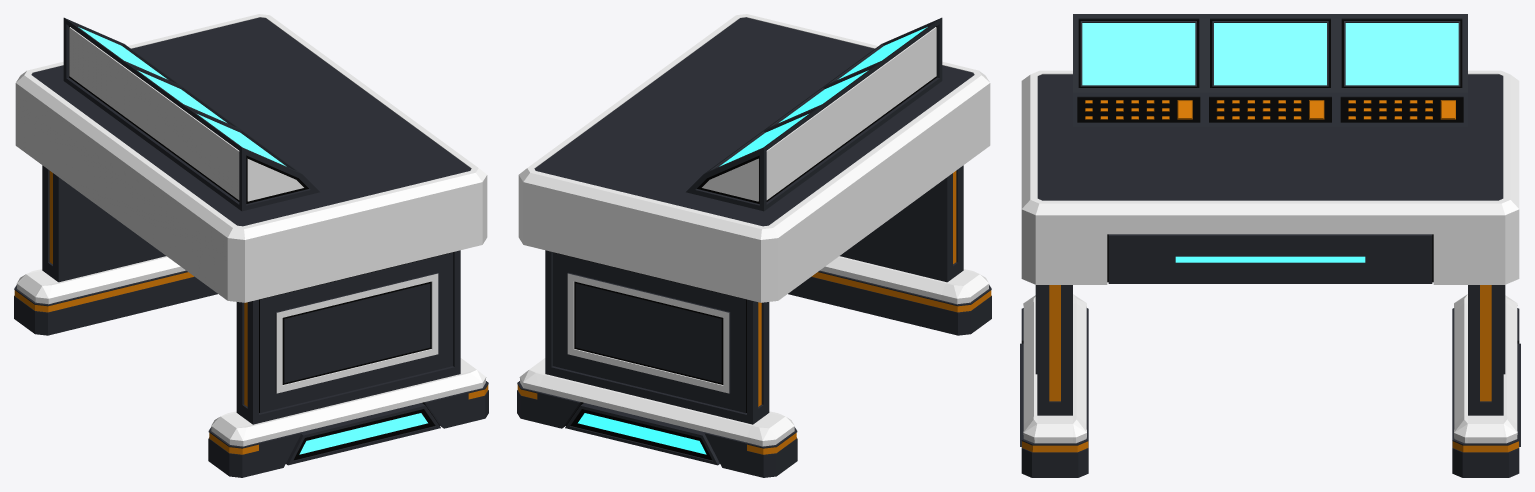
File: SM_MedLab_Workstation_Desk.fbx
3 views of the same model, side by side, from view 1: azimuth 30°, elevation 25°; view 2: azimuth 150°, elevation 25°; view 3: azimuth 270°, elevation 25° (orthographic). The views are drawn at different scales.
Visible parts, largest first — view 1: SM_MedLab_Workstation_Desk_Body.001; view 2: SM_MedLab_Workstation_Desk_Body.001; view 3: SM_MedLab_Workstation_Desk_Body.001, SM_MedLab_Workstation_Desk_Drawer.001.
Boxes of the visible parts, x1,y1,x2,y2 form: SM_MedLab_Workstation_Desk_Body.001: [14, 14, 488, 477]; SM_MedLab_Workstation_Desk_Body.001: [517, 14, 991, 477]; SM_MedLab_Workstation_Desk_Body.001: [1020, 14, 1520, 477]; SM_MedLab_Workstation_Desk_Drawer.001: [1108, 234, 1432, 283].
Size of the model in its own units: 100 by 113 by 151.
